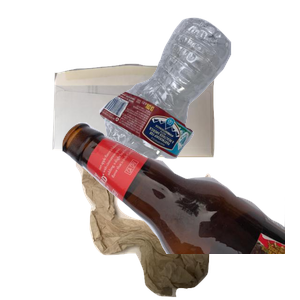glass: (60, 120, 300, 300)
paper: (50, 61, 257, 211)
plastic: (96, 15, 300, 184)
trash: (73, 147, 300, 300)
